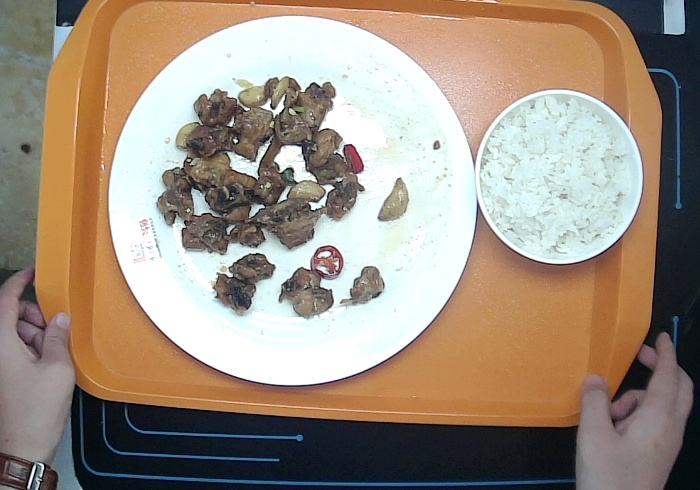ZNLD-Da_Yuan_Pan: (106, 16, 483, 392)
ZNLD-Fan_Wan: (470, 89, 643, 266)
